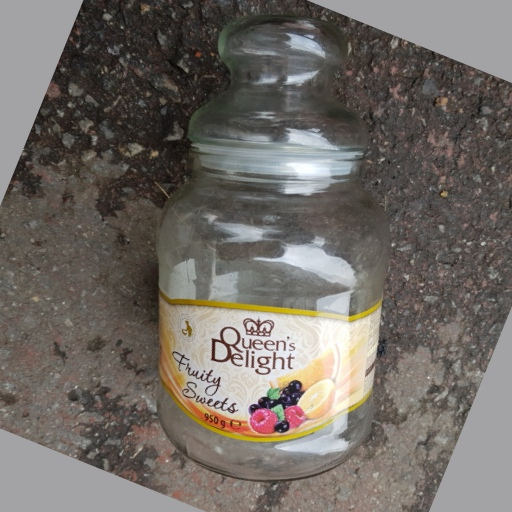Glass_5: (144, 9, 395, 477)
